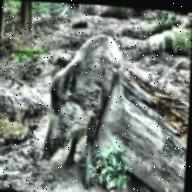boar: (36, 32, 121, 169)
